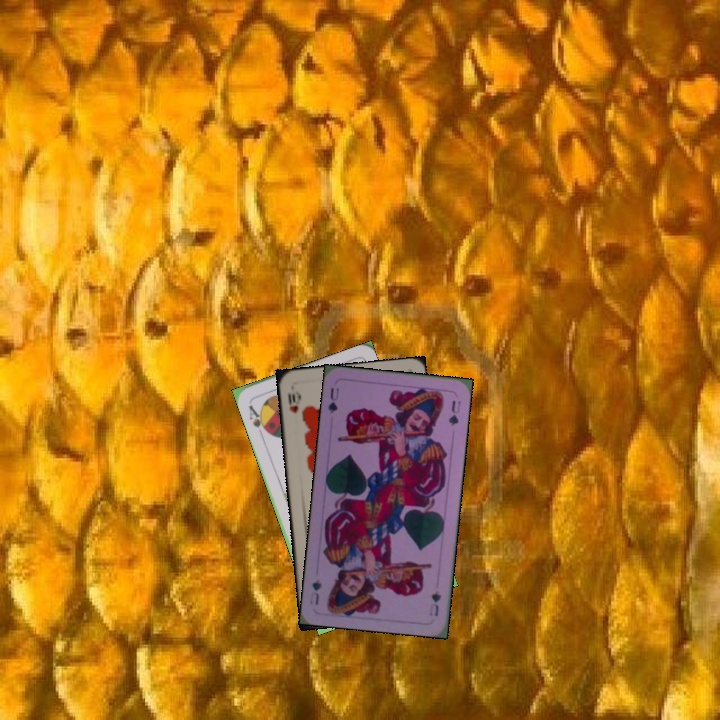GU: (425, 587, 444, 619), (324, 384, 342, 416)
H10: (284, 387, 302, 415)
SA: (245, 401, 271, 438)
